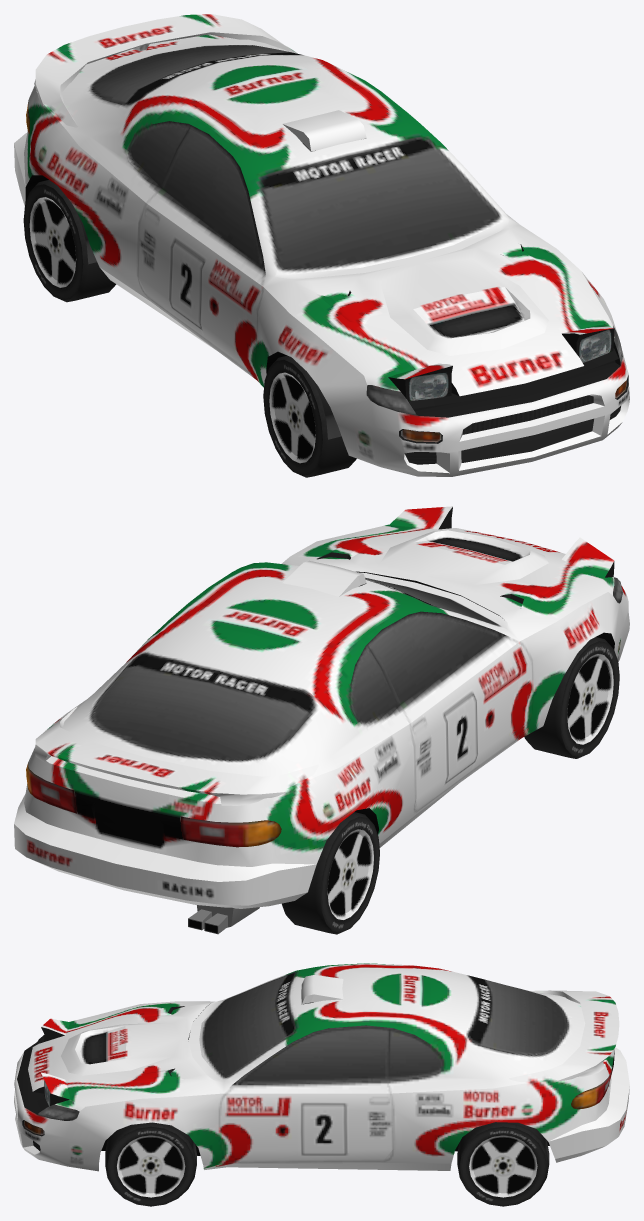
File: toyota_celica.glb
3 views of the same model, one above another, from view 1: azimuth 30°, elevation 25°; view 2: azimuth 150°, elevation 25°; view 3: azimuth 270°, elevation 25° (orthographic). The views are drawn at different scales.
Visible parts, largest first — view 1: Toyota Celica, L_front_wheel_geo #370579.007, L_front_wheel_geo #370579.005; view 2: Toyota Celica, L_front_wheel_geo #370579.005, L_front_wheel_geo #370579.007; view 3: Toyota Celica, L_front_wheel_geo #370579.006, L_front_wheel_geo #370579.004.
Boxes of the visible parts, x1,y1,x2,y2 form: Toyota Celica: [14, 14, 629, 476]; L_front_wheel_geo #370579.007: [263, 355, 356, 477]; L_front_wheel_geo #370579.005: [23, 180, 116, 302]; Toyota Celica: [14, 506, 629, 934]; L_front_wheel_geo #370579.005: [282, 812, 379, 934]; L_front_wheel_geo #370579.007: [524, 637, 619, 758]; Toyota Celica: [14, 963, 629, 1171]; L_front_wheel_geo #370579.006: [457, 1122, 549, 1206]; L_front_wheel_geo #370579.004: [105, 1122, 196, 1206].
Bounding box in the file's own units: 1.82 × 1.35 × 4.41.
Materials: 5 (5 with a texture image).
